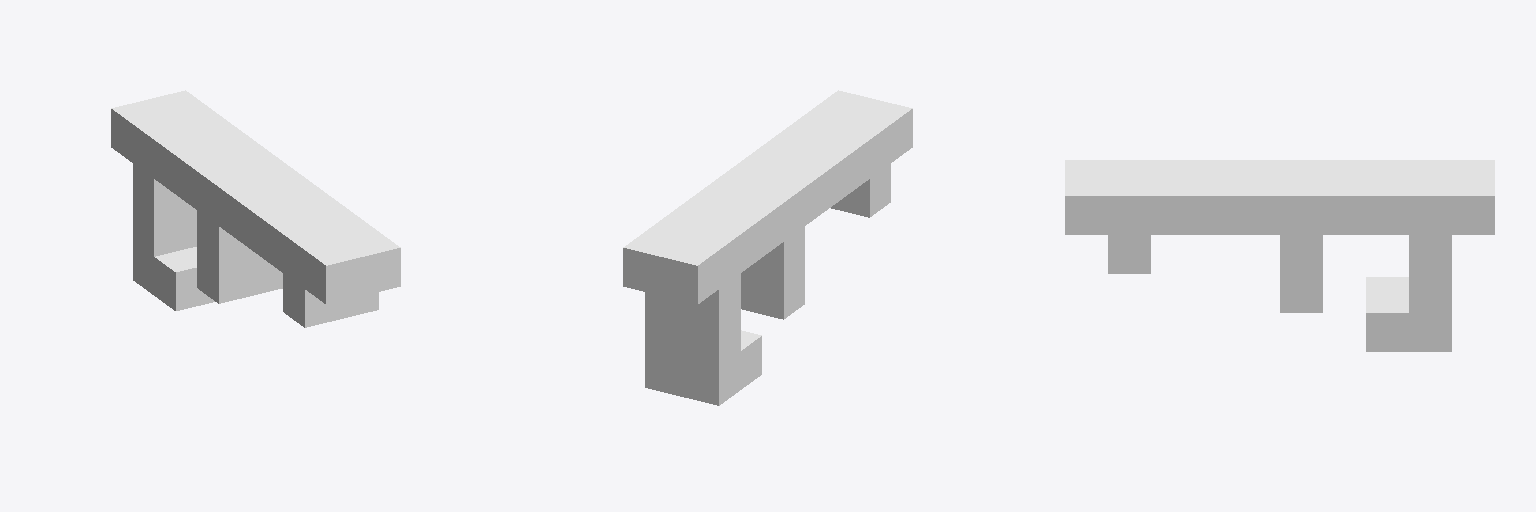
The model's file is bron.obj.
3 views of the same model, side by side, from view 1: azimuth 30°, elevation 25°; view 2: azimuth 150°, elevation 25°; view 3: azimuth 270°, elevation 25° (orthographic).
Bounding box in the file's own units: 2 × 4 × 10.